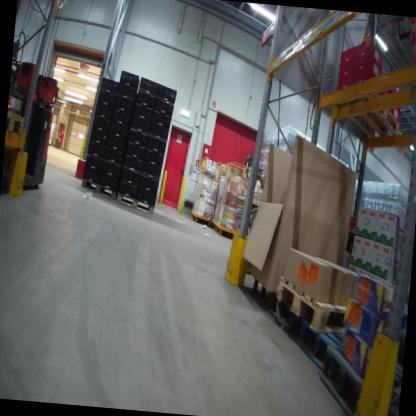pallet: (272, 275, 366, 340), (327, 83, 404, 143), (114, 190, 159, 215), (79, 177, 120, 202)
pallet_truck: (2, 52, 62, 196)
